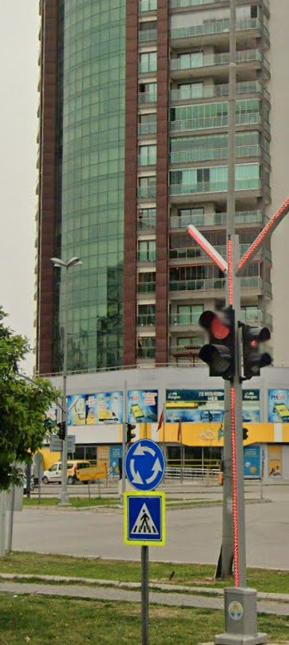crossroads: (124, 442, 165, 489)
redlight: (198, 305, 239, 384), (245, 317, 268, 378)
